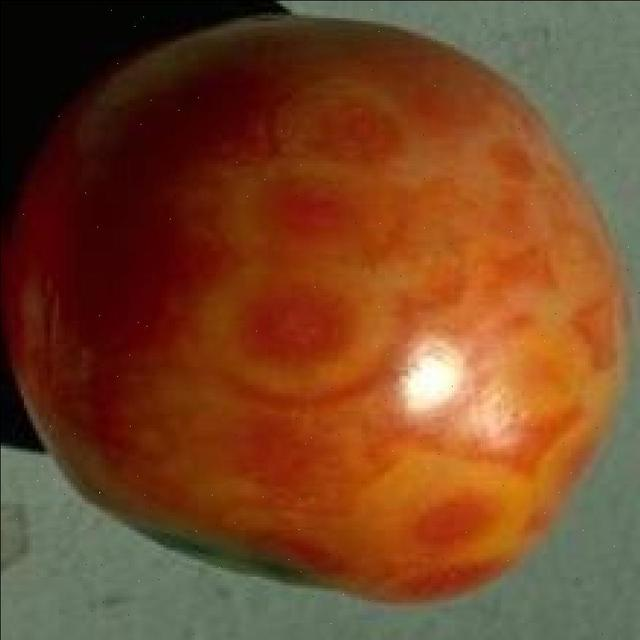Spotted wilt Virus Fruit: (6, 8, 416, 401)
